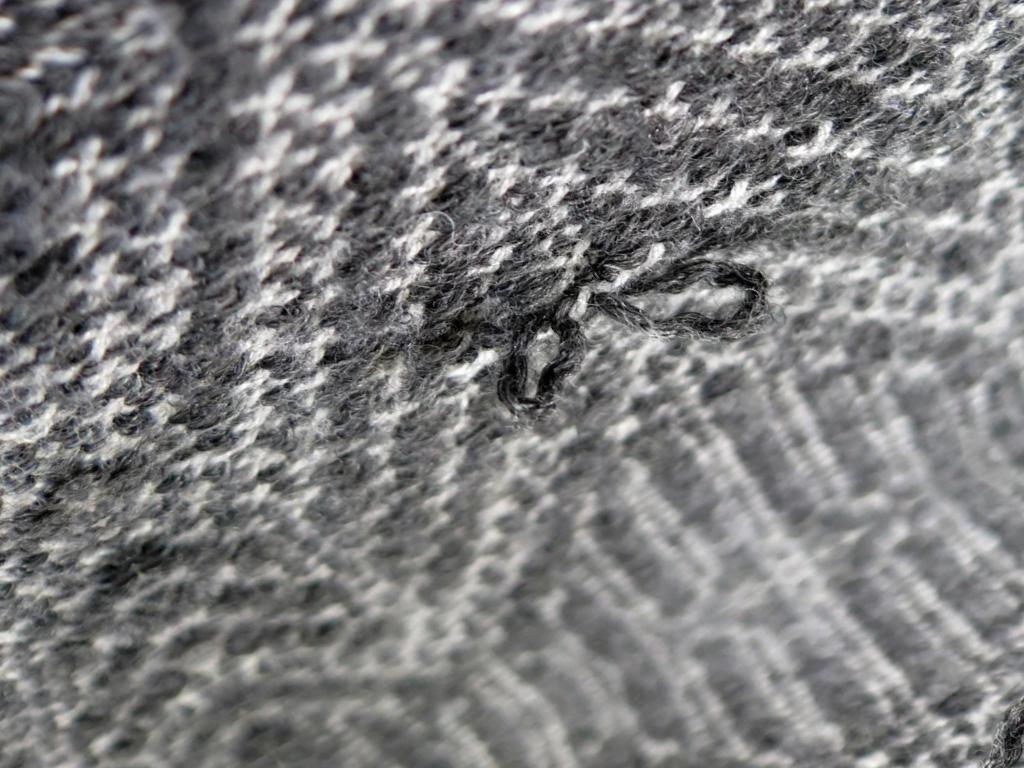snag: (580, 259, 783, 351), (476, 294, 593, 424)
